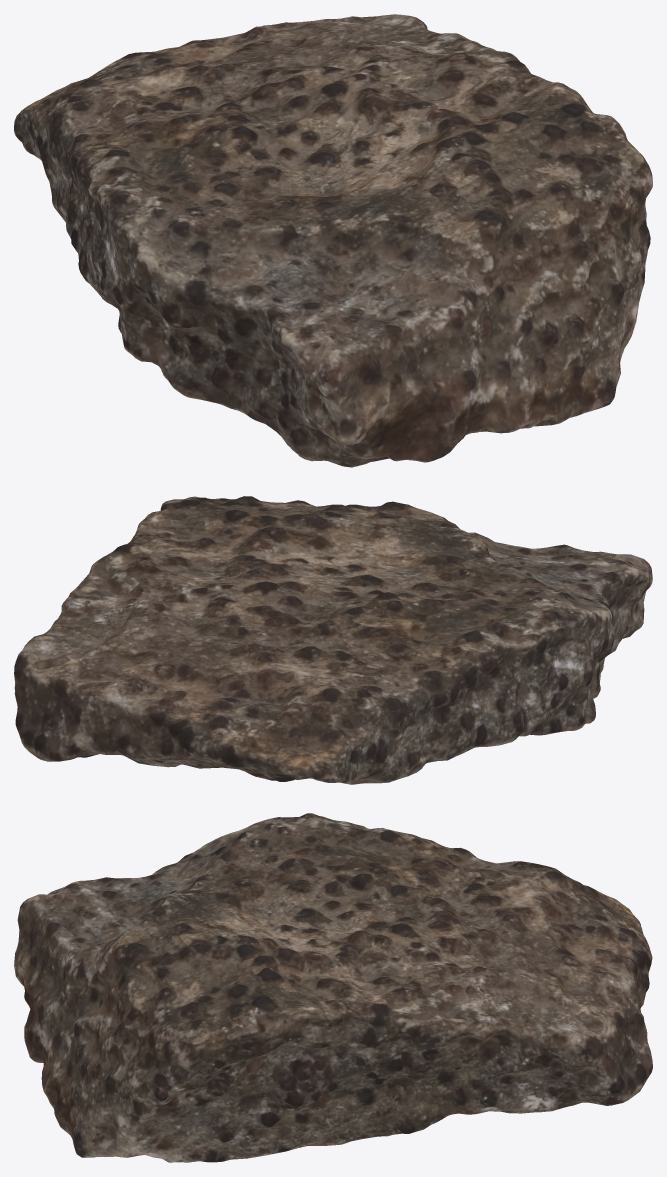
File: piece-006.glb
The picture shows the model from 3 angles, top to bottom: view 1: azimuth 30°, elevation 25°; view 2: azimuth 150°, elevation 25°; view 3: azimuth 270°, elevation 25°; orthographic projection. The views are drawn at different scales.
Parts seen in each view (by area): view 1: Model; view 2: Model; view 3: Model.
Boxes of the visible parts, <box> form: Model: <box>14,14,652,467</box>; Model: <box>14,496,652,784</box>; Model: <box>14,813,652,1162</box>.
Bounding box in the file's own units: 0.0674 × 0.0284 × 0.085.
3 materials, 3 textured.
